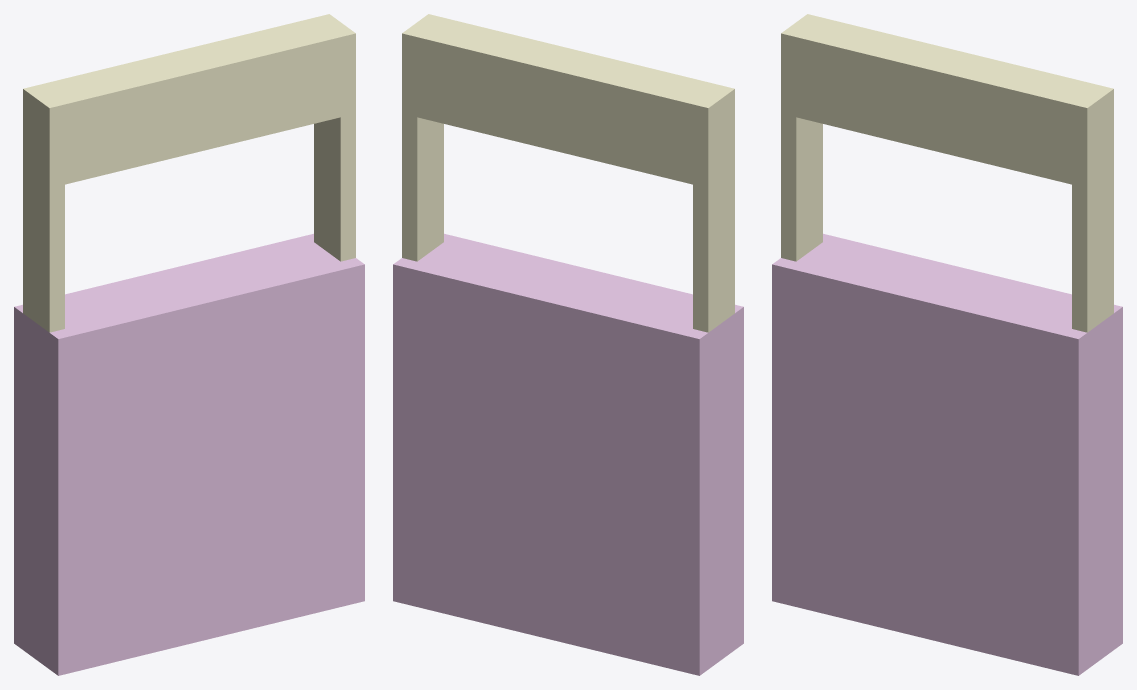
File: Wall_B_Window_Large.glb
3 views of the same model, side by side, from view 1: azimuth 30°, elevation 25°; view 2: azimuth 150°, elevation 25°; view 3: azimuth 330°, elevation 25° (orthographic).
Parts seen in each view (by area): view 1: Wall B Window Large; view 2: Wall B Window Large; view 3: Wall B Window Large.
Boxes of the visible parts, x1,y1,x2,y2 form: Wall B Window Large: (14, 14, 364, 675); Wall B Window Large: (393, 14, 743, 675); Wall B Window Large: (772, 14, 1122, 675).
Size of the model in its own units: 2 by 3.5 by 0.5.
